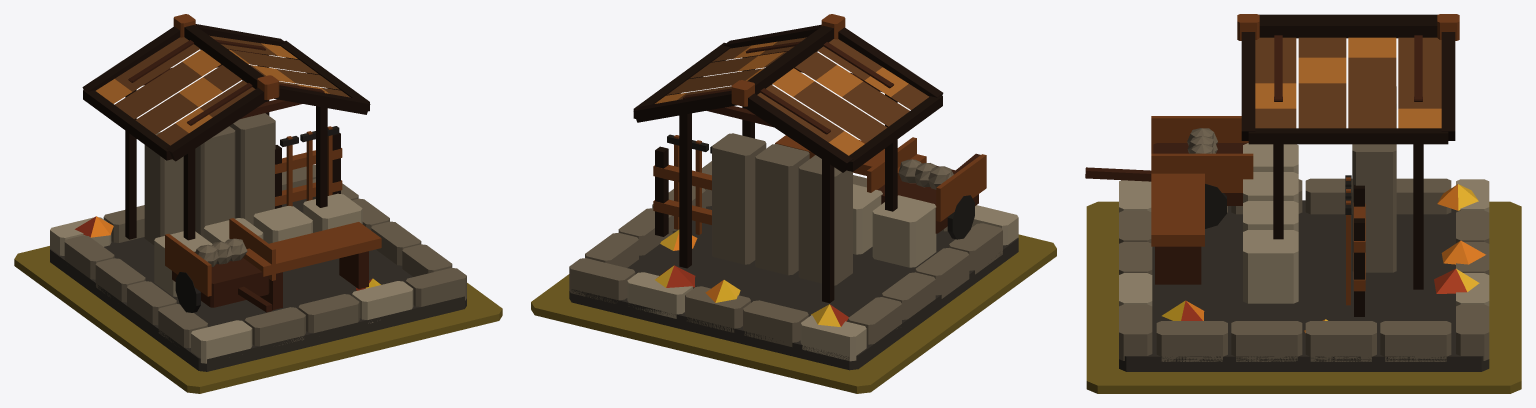
File: mason_yard_t6.glb
3 renders of one model, left to right at view 1: azimuth 30°, elevation 25°; view 2: azimuth 150°, elevation 25°; view 3: azimuth 270°, elevation 25°, orthographic. The views are drawn at different scales.
Parts seen in each view (by area): view 1: MMR | mason_yard | T06 Architecture.001, MMR | mason_yard | Tier 06 Ground.001, MMR | mason_yard | T06 Autumn Dressing.001; view 2: MMR | mason_yard | T06 Architecture.001, MMR | mason_yard | Tier 06 Ground.001, MMR | mason_yard | T06 Autumn Dressing.001; view 3: MMR | mason_yard | T06 Architecture.001, MMR | mason_yard | Tier 06 Ground.001, MMR | mason_yard | T06 Autumn Dressing.001.
Boxes of the visible parts, x1=… form: MMR | mason_yard | T06 Architecture.001: x1=50, y1=14, x2=466, y2=371; MMR | mason_yard | Tier 06 Ground.001: x1=14, y1=246, x2=502, y2=393; MMR | mason_yard | T06 Autumn Dressing.001: x1=75, y1=216, x2=380, y2=290; MMR | mason_yard | T06 Architecture.001: x1=569, y1=14, x2=1018, y2=370; MMR | mason_yard | Tier 06 Ground.001: x1=531, y1=234, x2=1056, y2=393; MMR | mason_yard | T06 Autumn Dressing.001: x1=655, y1=230, x2=848, y2=326; MMR | mason_yard | T06 Architecture.001: x1=1085, y1=14, x2=1489, y2=371; MMR | mason_yard | Tier 06 Ground.001: x1=1086, y1=201, x2=1521, y2=393; MMR | mason_yard | T06 Autumn Dressing.001: x1=1162, y1=184, x2=1485, y2=333.
Bounding box in the file's own units: 2.35 × 1.65 × 2.36.
Materials: 1 (1 with a texture image).
